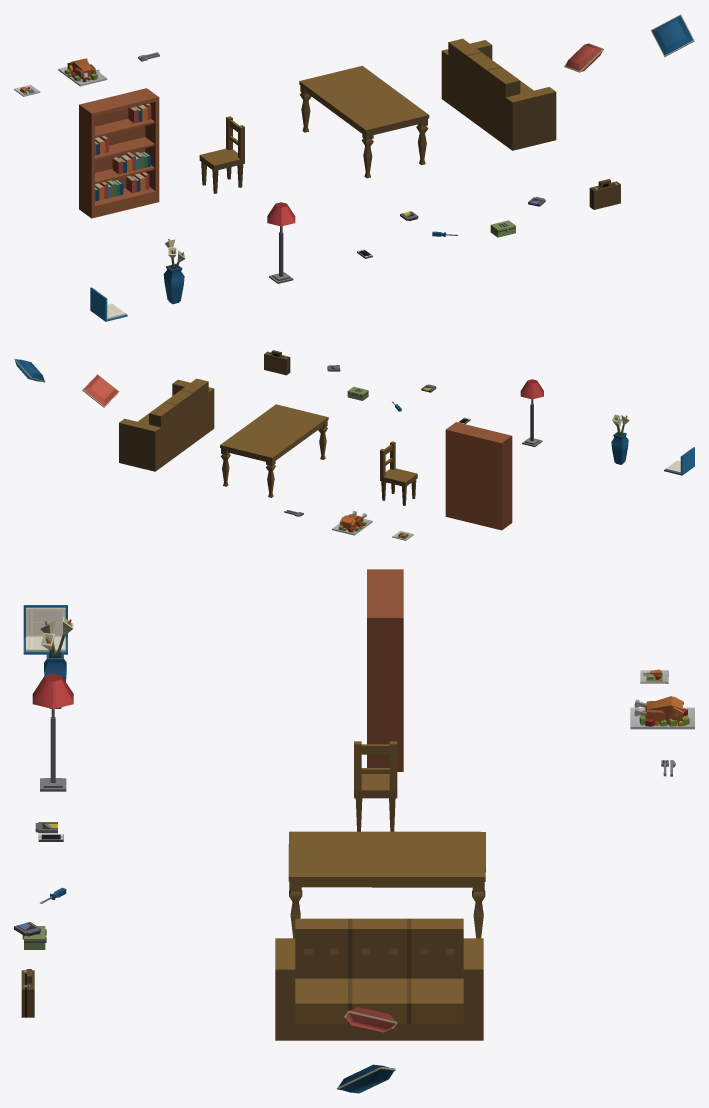
Rendered from Lounge (1)_subset.FBX.
3 views of the same model, one above another, from view 1: azimuth 30°, elevation 25°; view 2: azimuth 150°, elevation 25°; view 3: azimuth 270°, elevation 25° (orthographic). The views are drawn at different scales.
Parts seen in each view (by area): view 1: Prop_Shelf_08 (1), Prop_Couch_02 (1), Prop_Table_03 (1), Prop_Chair_06 (4), Prop_Cushion_01 (11), Prop_Lamp_06 (1), Prop_Flower_Pot_01, Items_BriefCase_01 (1), Prop_Turkey_02 (1), Items_Book_01 (2), Prop_Cushion_01 (10); view 2: Prop_Shelf_08 (1), Prop_Couch_02 (1), Prop_Table_03 (1), Prop_Chair_06 (4), Prop_Cushion_01 (10), Prop_Flower_Pot_01, Prop_Lamp_06 (1), Prop_Turkey_02 (1), Items_BriefCase_01 (1), Items_Book_01 (2), Prop_Cushion_01 (11); view 3: Prop_Couch_02 (1), Prop_Table_03 (1), Prop_Shelf_08 (1), Prop_Chair_06 (4), Prop_Lamp_06 (1), Prop_Turkey_02 (1), Items_Book_01 (2), Prop_Flower_Pot_01, Prop_Cushion_01 (11), Prop_Cushion_01 (10).
Part boxes in pixels (<box>): Prop_Shelf_08 (1): <box>79,88,159,218</box>; Prop_Couch_02 (1): <box>441,38,556,150</box>; Prop_Table_03 (1): <box>299,66,429,178</box>; Prop_Chair_06 (4): <box>199,116,244,193</box>; Prop_Cushion_01 (11): <box>650,14,694,57</box>; Prop_Lamp_06 (1): <box>267,202,295,283</box>; Prop_Flower_Pot_01: <box>163,238,185,304</box>; Items_BriefCase_01 (1): <box>589,179,620,209</box>; Prop_Turkey_02 (1): <box>58,58,107,86</box>; Items_Book_01 (2): <box>90,287,127,321</box>; Prop_Cushion_01 (10): <box>564,43,603,72</box>; Prop_Shelf_08 (1): <box>445,422,512,530</box>; Prop_Couch_02 (1): <box>119,378,214,471</box>; Prop_Table_03 (1): <box>220,404,328,497</box>; Prop_Chair_06 (4): <box>380,441,417,505</box>; Prop_Cushion_01 (10): <box>82,374,119,407</box>; Prop_Flower_Pot_01: <box>611,414,629,464</box>; Prop_Lamp_06 (1): <box>520,379,543,446</box>; Prop_Turkey_02 (1): <box>332,510,372,535</box>; Items_BriefCase_01 (1): <box>264,350,290,375</box>; Items_Book_01 (2): <box>664,447,694,475</box>; Prop_Cushion_01 (11): <box>14,359,45,382</box>; Prop_Couch_02 (1): <box>275,918,483,1040</box>; Prop_Table_03 (1): <box>288,831,485,938</box>; Prop_Shelf_08 (1): <box>367,569,403,771</box>; Prop_Chair_06 (4): <box>354,741,397,831</box>; Prop_Lamp_06 (1): <box>32,673,73,791</box>; Prop_Turkey_02 (1): <box>630,696,694,729</box>; Items_Book_01 (2): <box>23,605,67,654</box>; Prop_Flower_Pot_01: <box>40,617,73,708</box>; Prop_Cushion_01 (11): <box>336,1064,395,1093</box>; Prop_Cushion_01 (10): <box>344,1007,397,1032</box>.
Size of the model in its own units: 23305 by 3493 by 13418.
Materials: 2 (2 with a texture image).
